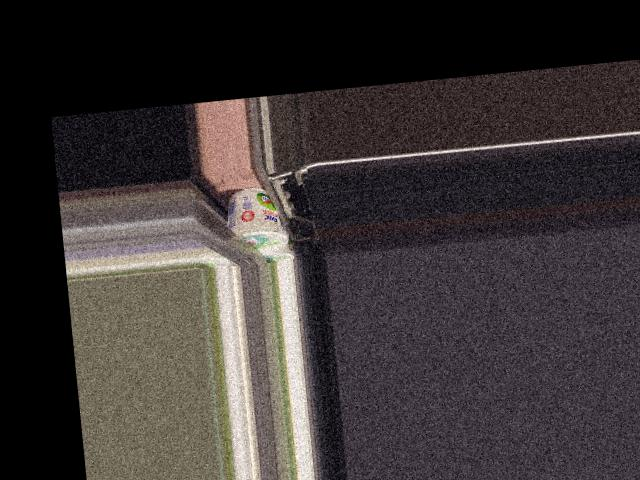cotage: (222, 186, 285, 257)
